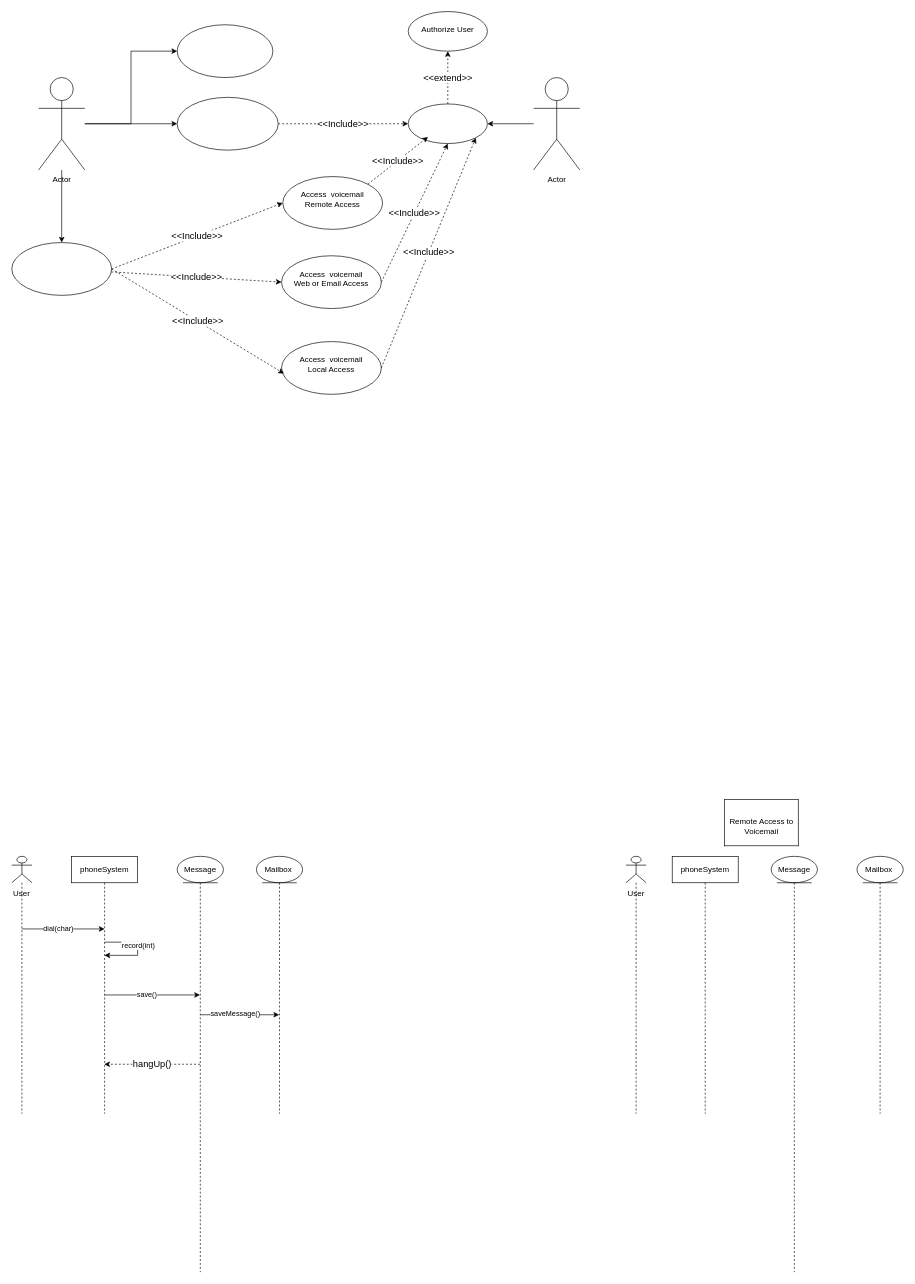
This 915x1284 diagram has some shape labels left out. Each missing label, with the centre of its shape:
Access voicemail: the point at 61,268
Administrate mailbox: the point at 227,123
Authenticate User: the point at 447,123
Leave Voicemail: the point at 225,51
